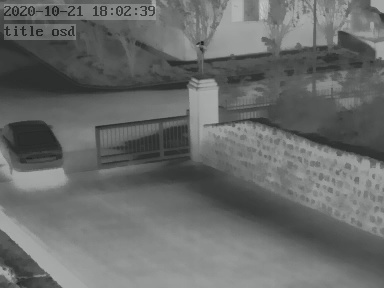vehicle: (2, 118, 65, 178)
